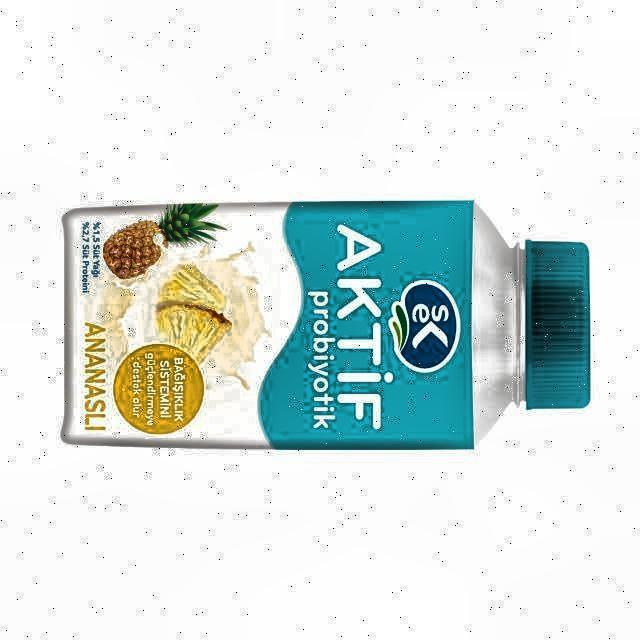plastic: (62, 197, 591, 452)
